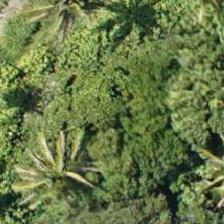coconut_tree: (12, 133, 102, 223)
